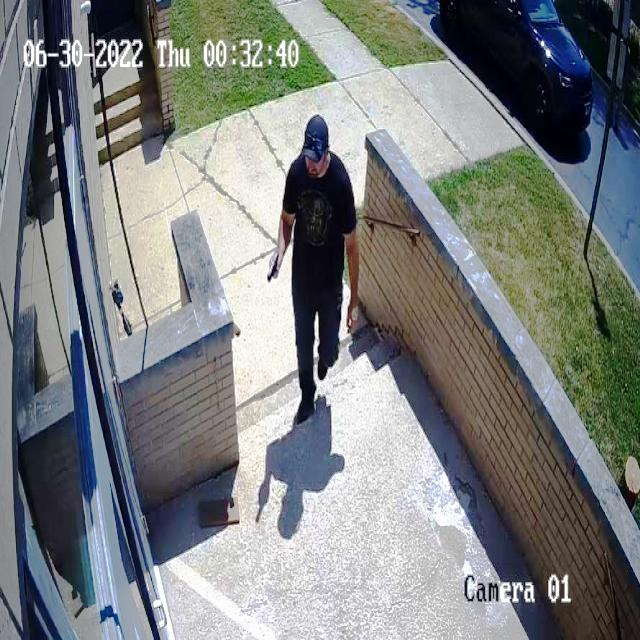Gun: (258, 247, 294, 286)
